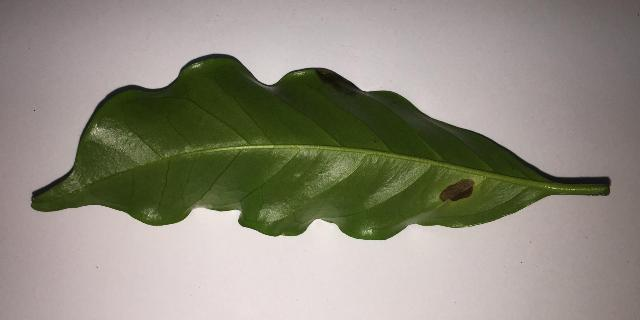cercospora: (440, 179, 475, 201)
